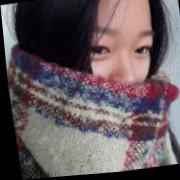WRONG: (56, 7, 166, 132)
